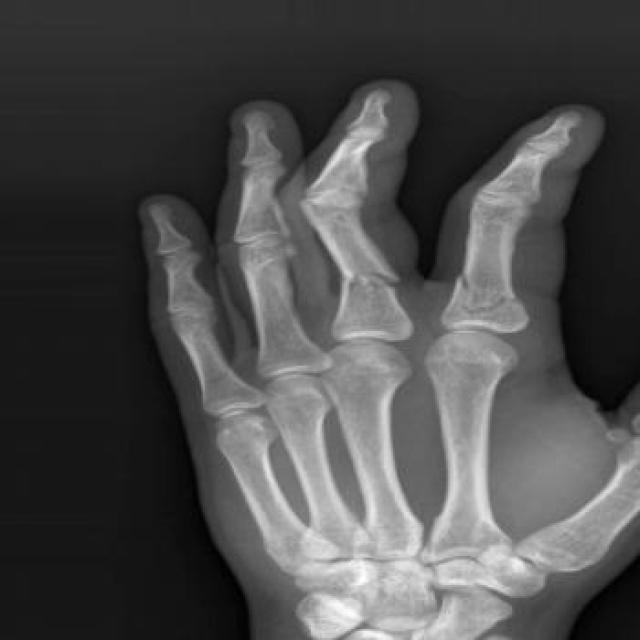Fracture: (440, 264, 544, 316), (323, 266, 416, 297)
